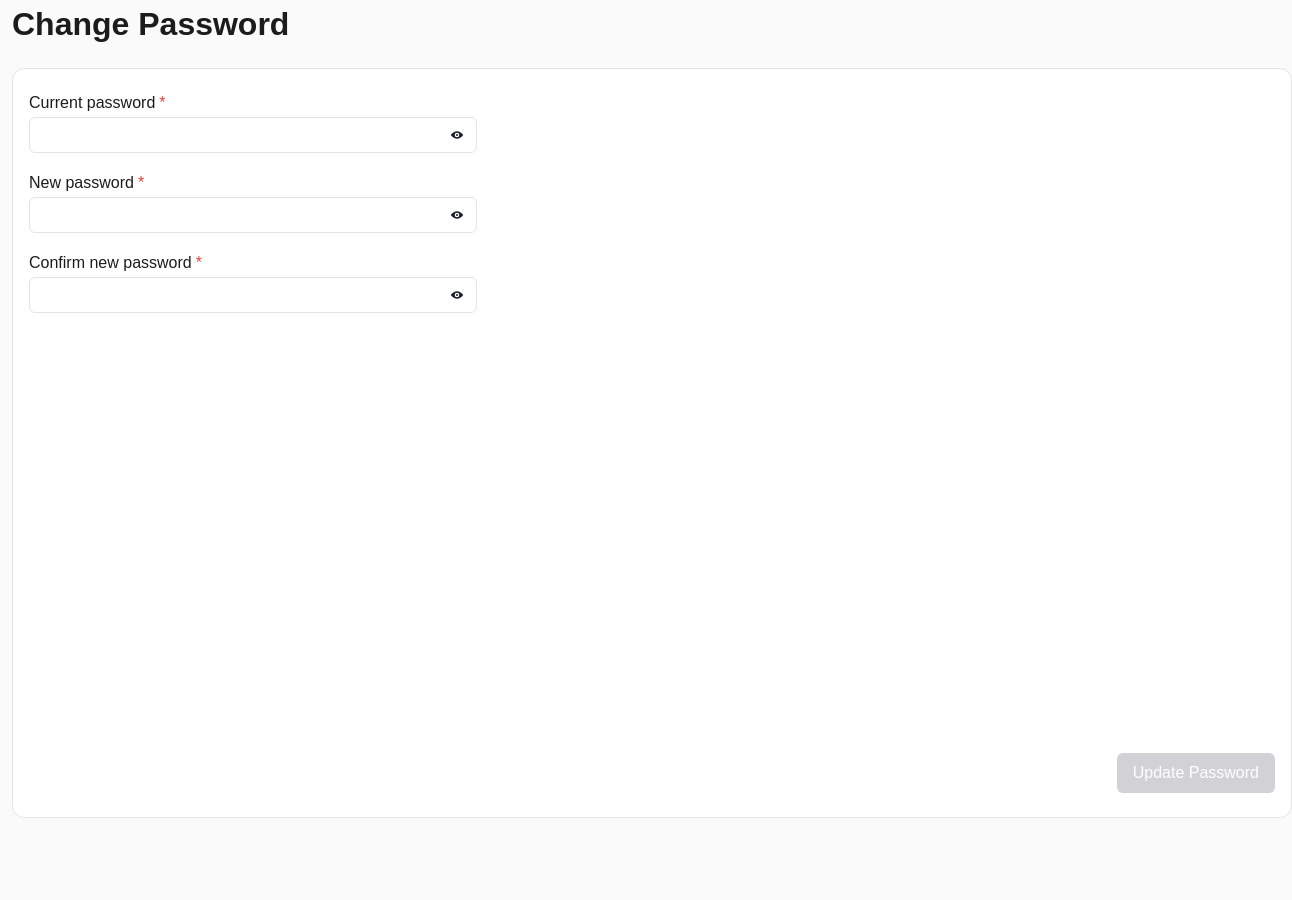
Test: ChangePasswordPage › toggles password visibility using localized aria-labels
Step 1. Click the 1st button named "show password" → click(457, 135), box x1=445 y1=123 x2=469 y2=147
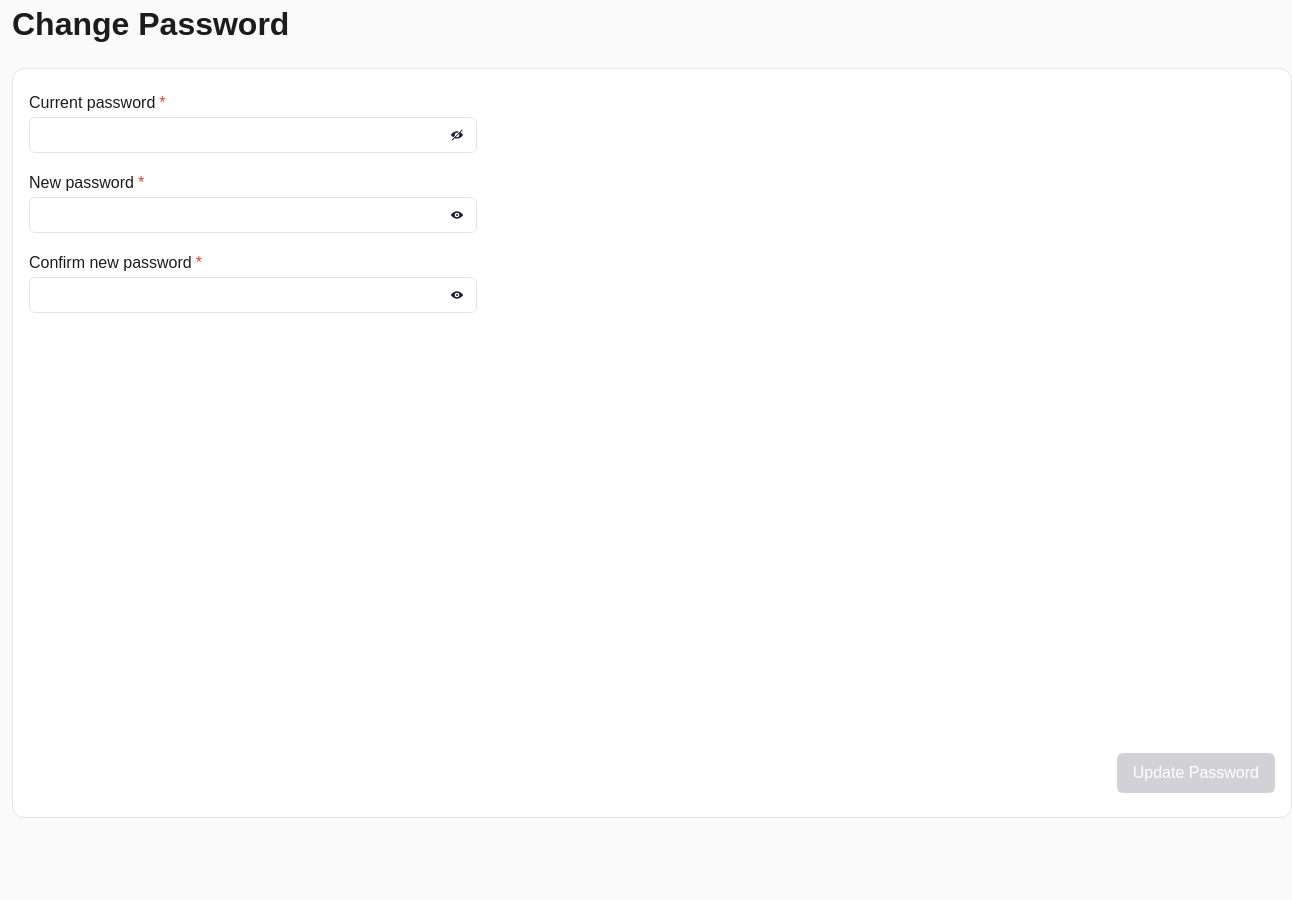
Expected: the button named "hide password" is shown, x1=445 y1=123 x2=469 y2=147
